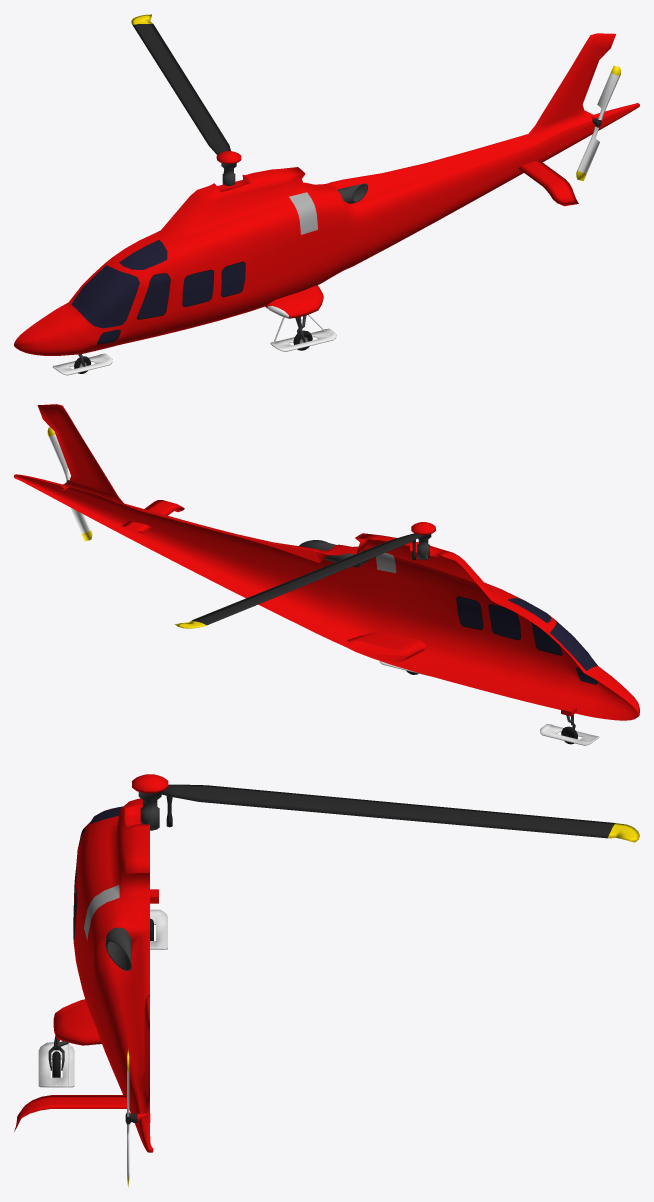
File: helicopter.glb
The picture shows the model from 3 angles, top to bottom: view 1: azimuth 30°, elevation 25°; view 2: azimuth 150°, elevation 25°; view 3: azimuth 270°, elevation 25°; orthographic projection. The views are drawn at different scales.
Visible parts, largest first — view 1: Cube, Cylinder.003, Cube.001, Cube.004, Cylinder.002, Cube.007, Cube.006, Cylinder.001; view 2: Cube, Cylinder.003, Cube.004, Cylinder.002, Cube.001, Cylinder.001, Cube.006; view 3: Cube, Cylinder.003, Cube.004, Cube.001, Cylinder.001, Cube.007, Cylinder, Cube.006.
Part boxes in pixels (left/top/right/bottom): Cube: left=14, top=33, right=639, bottom=355; Cylinder.003: left=131, top=14, right=230, bottom=154; Cube.001: left=518, top=160, right=578, bottom=206; Cube.004: left=265, top=285, right=323, bottom=318; Cylinder.002: left=576, top=65, right=620, bottom=181; Cube.007: left=270, top=328, right=336, bottom=351; Cube.006: left=52, top=353, right=112, bottom=375; Cylinder.001: left=216, top=151, right=241, bottom=185; Cube: left=14, top=404, right=639, bottom=720; Cylinder.003: left=174, top=533, right=423, bottom=628; Cube.004: left=347, top=632, right=425, bottom=662; Cylinder.002: left=47, top=427, right=92, bottom=541; Cube.001: left=121, top=500, right=184, bottom=532; Cylinder.001: left=411, top=522, right=435, bottom=559; Cube.006: left=540, top=724, right=599, bottom=745; Cube: left=73, top=798, right=153, bottom=1152; Cylinder.003: left=157, top=784, right=639, bottom=842; Cube.004: left=53, top=999, right=101, bottom=1045; Cube.001: left=14, top=1095, right=126, bottom=1131; Cylinder.001: left=132, top=774, right=168, bottom=830; Cube.007: left=38, top=1042, right=74, bottom=1087; Cylinder: left=105, top=927, right=131, bottom=970; Cube.006: left=150, top=909, right=167, bottom=949.
Size of what is drawn, in the model's own units: 9.33 by 3.06 by 5.45.
